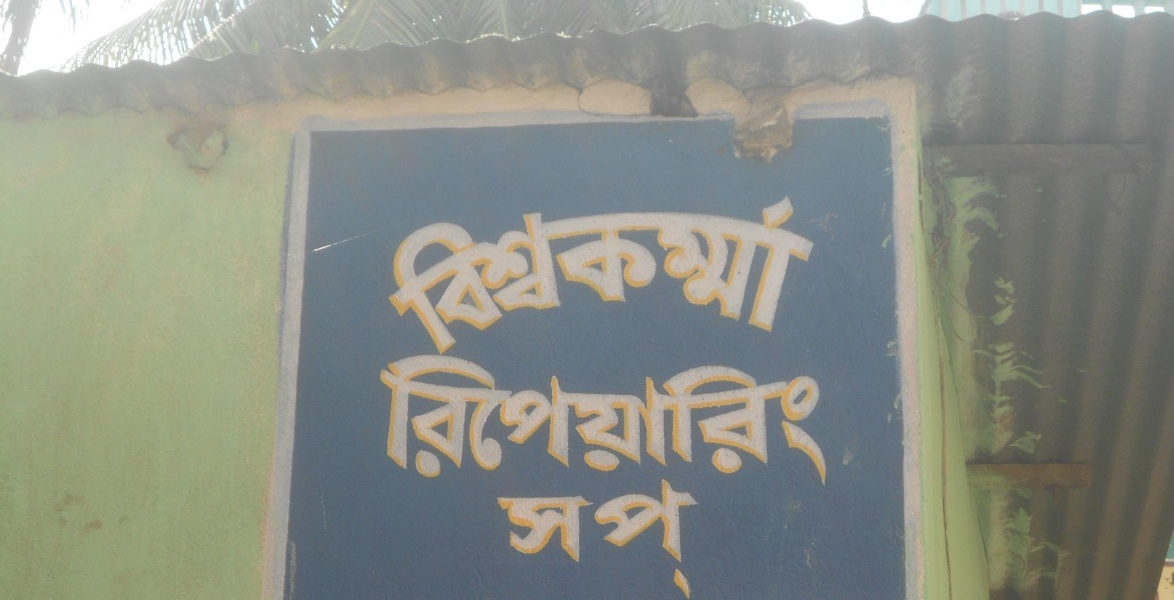text: (401, 194, 416, 356), (417, 194, 432, 356), (433, 194, 448, 356), (449, 194, 464, 356), (465, 194, 480, 356), (481, 194, 496, 356), (497, 194, 512, 356), (513, 194, 528, 356), (529, 194, 544, 356), (545, 194, 560, 356), (561, 194, 576, 356), (577, 194, 592, 356), (593, 194, 608, 356), (609, 194, 624, 356), (625, 194, 640, 356), (641, 194, 656, 356), (657, 194, 672, 356), (673, 194, 688, 356), (689, 194, 704, 356), (705, 194, 720, 356), (721, 194, 736, 356), (737, 194, 752, 356), (753, 194, 768, 356), (769, 194, 784, 356), (785, 194, 800, 356), (801, 194, 816, 356), (385, 355, 400, 489), (401, 355, 416, 489), (417, 355, 432, 489), (433, 355, 448, 489), (449, 355, 464, 489), (465, 355, 480, 489), (481, 355, 496, 489), (497, 355, 512, 489), (513, 355, 528, 489), (529, 355, 544, 489), (545, 355, 560, 489), (561, 355, 576, 489), (577, 355, 592, 489), (593, 355, 608, 489), (609, 355, 624, 489), (625, 355, 640, 489), (641, 355, 656, 489), (657, 355, 672, 489), (673, 355, 688, 489), (689, 355, 704, 489), (705, 355, 720, 489), (721, 355, 736, 489), (737, 355, 752, 489), (753, 355, 768, 489), (769, 355, 784, 489), (785, 355, 800, 489), (801, 355, 816, 489), (817, 355, 832, 489), (497, 477, 512, 599), (513, 477, 528, 599), (529, 477, 544, 599), (545, 477, 560, 599), (561, 477, 576, 599), (577, 477, 592, 599), (593, 477, 608, 599), (609, 477, 624, 599), (625, 477, 640, 599), (641, 477, 656, 599), (657, 477, 672, 599), (673, 477, 688, 599), (390, 194, 400, 356), (689, 477, 699, 599), (379, 355, 384, 489), (493, 477, 496, 599)
